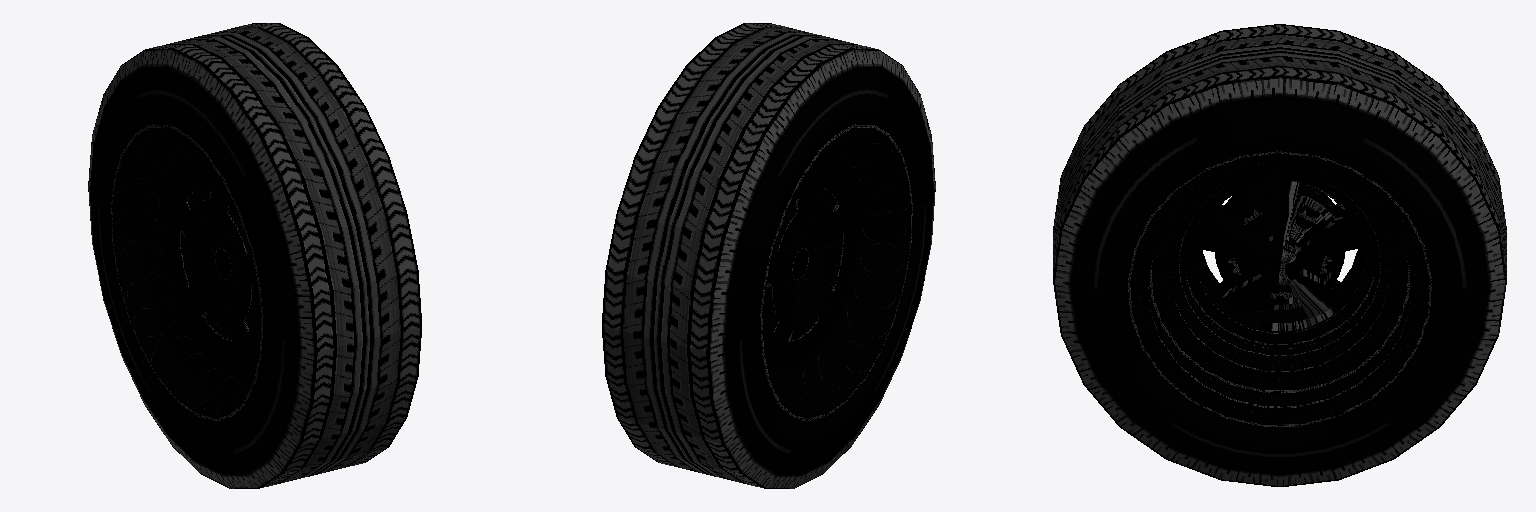
3 views of the same model, side by side, from view 1: azimuth 30°, elevation 25°; view 2: azimuth 150°, elevation 25°; view 3: azimuth 270°, elevation 25° (orthographic).
Visible parts, largest first — view 1: Wheel_Geo_polySurface45, polySurface45.001; view 2: Wheel_Geo_polySurface45, polySurface45.001; view 3: Wheel_Geo_polySurface45, polySurface45.001.
Part boxes in pixels (left/top/right/bottom): Wheel_Geo_polySurface45: left=88, top=23, right=421, bottom=488; polySurface45.001: left=111, top=122, right=267, bottom=421; Wheel_Geo_polySurface45: left=602, top=23, right=935, bottom=488; polySurface45.001: left=756, top=122, right=912, bottom=421; Wheel_Geo_polySurface45: left=1053, top=24, right=1506, bottom=486; polySurface45.001: left=1127, top=149, right=1432, bottom=427.
Size of the model in its own units: 1.82 by 5.16 by 5.16.
2 materials, 1 textured.